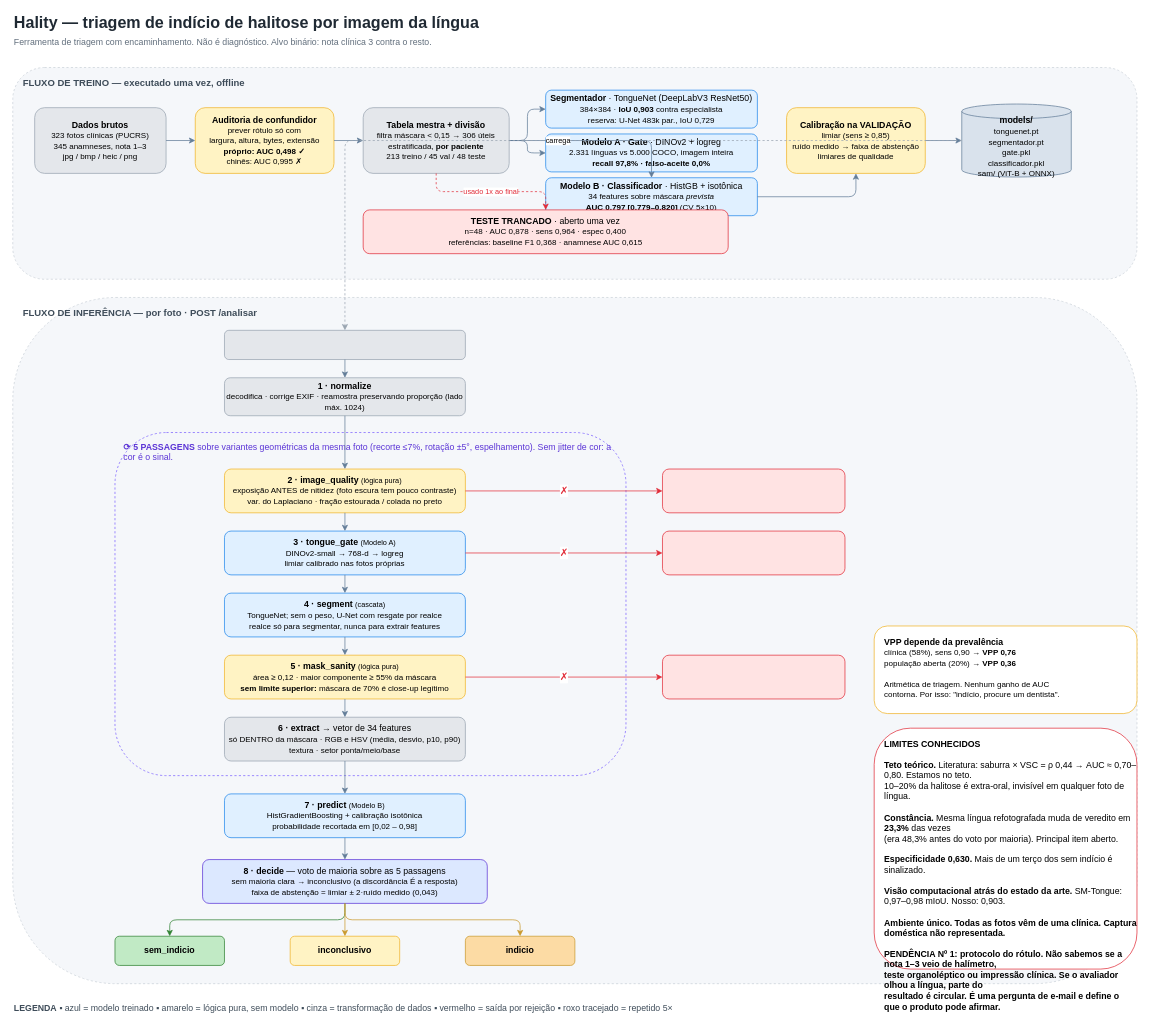
This 1150x1026 diagram has some shape labels left out. Here are the shapes that lost their labels. From the top down, the centre of each, then its label:
pixel 344 345: foto (bytes) · jpg / png / bmp / heic · ≤ 20 MB
pixel 753 490: rejeitado "muito escura" / "muito clara" / "tremida"
pixel 753 552: rejeitado "não identifiquei uma língua"
pixel 753 676: rejeitado "aproxime a câmera" / "não consegui delimitar"
